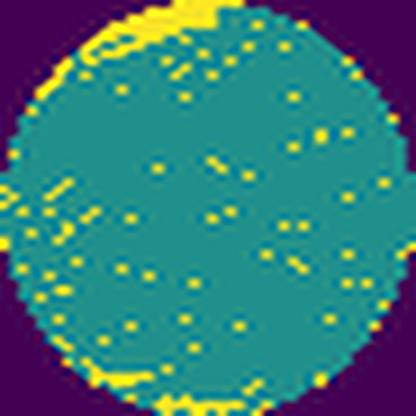Edge-Loc: (22, 0, 252, 104)
